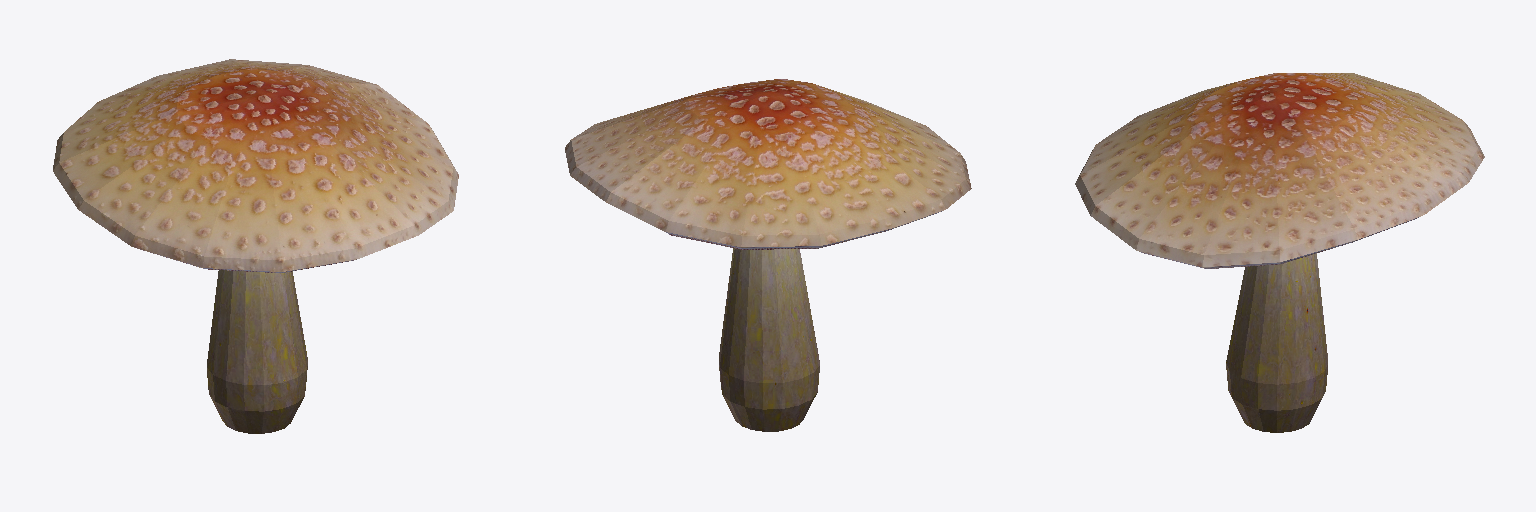
3 renders of one model, left to right at view 1: azimuth 30°, elevation 25°; view 2: azimuth 150°, elevation 25°; view 3: azimuth 270°, elevation 25°, orthographic.
Visible parts, largest first — view 1: meshlamellaB; view 2: meshlamellaB; view 3: meshlamellaB.
Boxes of the visible parts, x1,y1,x2,y2 form: meshlamellaB: [53, 59, 458, 433]; meshlamellaB: [565, 79, 971, 431]; meshlamellaB: [1075, 73, 1484, 432].
Bounding box in the file's own units: 5.24 × 4.56 × 5.22.
Materials: 1 (1 with a texture image).